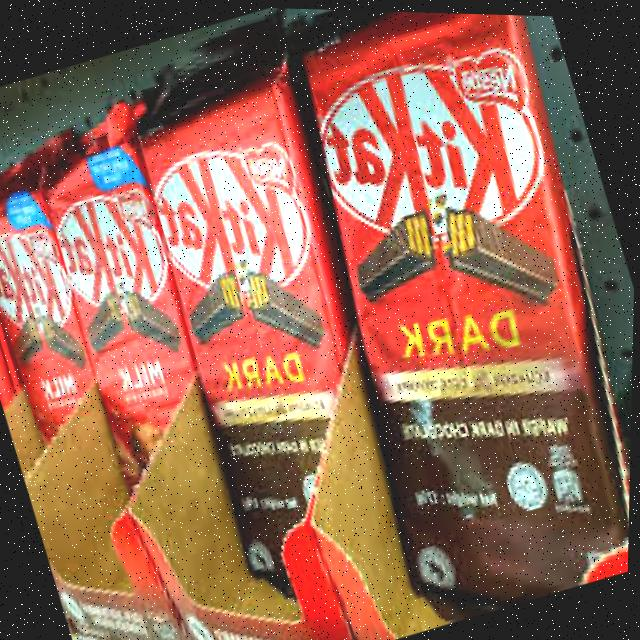kitkat: (225, 5, 640, 634), (86, 9, 451, 613), (4, 80, 282, 583), (0, 128, 158, 559)
